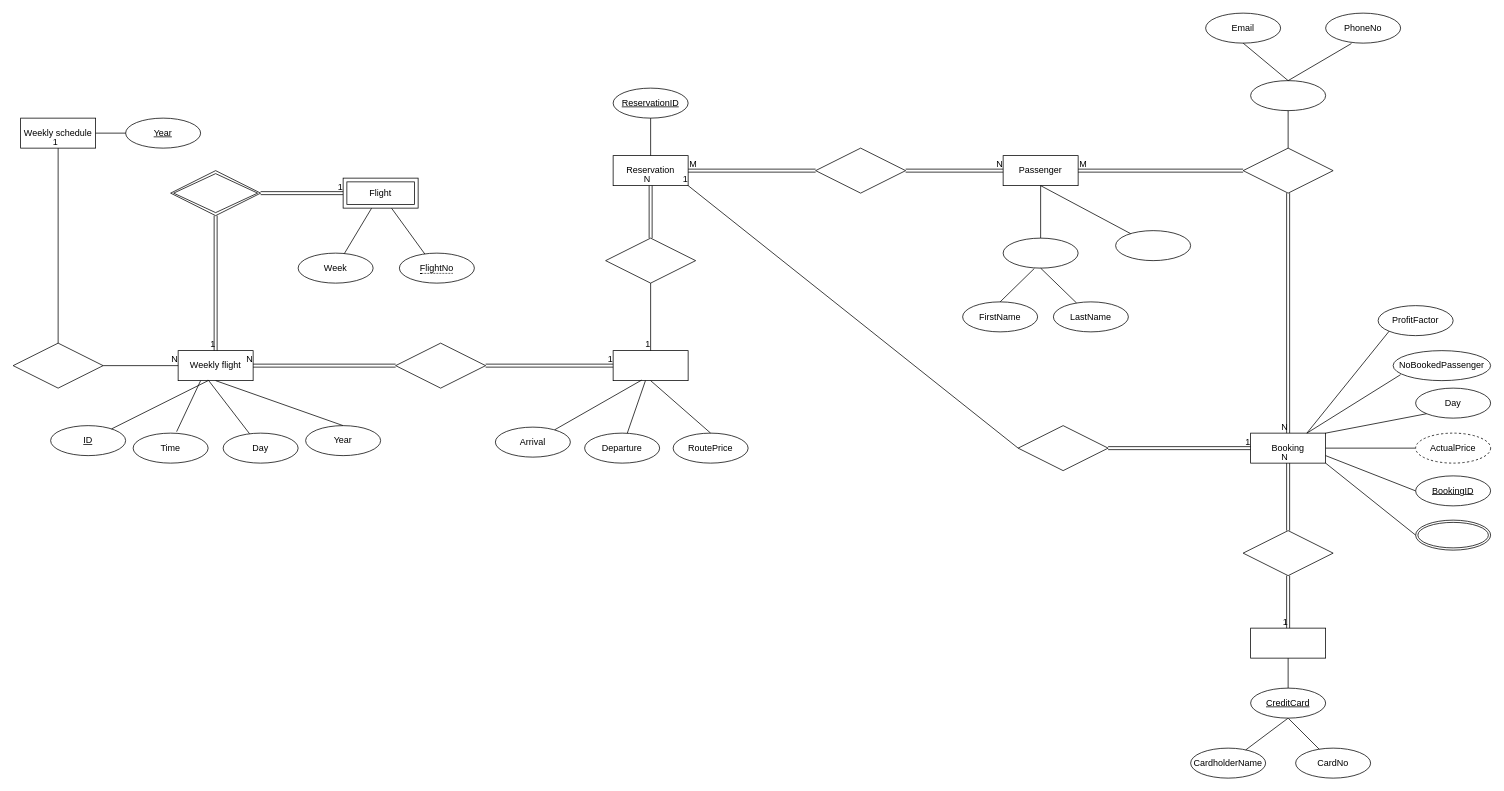
The diagram is 1504 pixels wide and 791 high, and some of its shapes have lost their labels. The shapes that lost their labels are listed below. From the top down, each one's box as (x1, y1, x2, y2) in pixels, then its label:
(1250, 80, 1326, 111): ContactInfo
(815, 147, 906, 193): ReservedFor
(1242, 147, 1333, 193): BookedFor
(170, 170, 261, 216): FliesBy
(605, 237, 696, 283): ReservedBy
(1002, 237, 1078, 268): FullName
(1115, 230, 1191, 261): PassportNo
(12, 342, 103, 388): Contains
(395, 342, 486, 388): Has
(612, 350, 688, 381): Route
(1017, 425, 1108, 471): BookedBy
(1242, 530, 1333, 576): PaysBy
(1415, 519, 1491, 550): TicketNo
(1250, 627, 1326, 658): Customer
